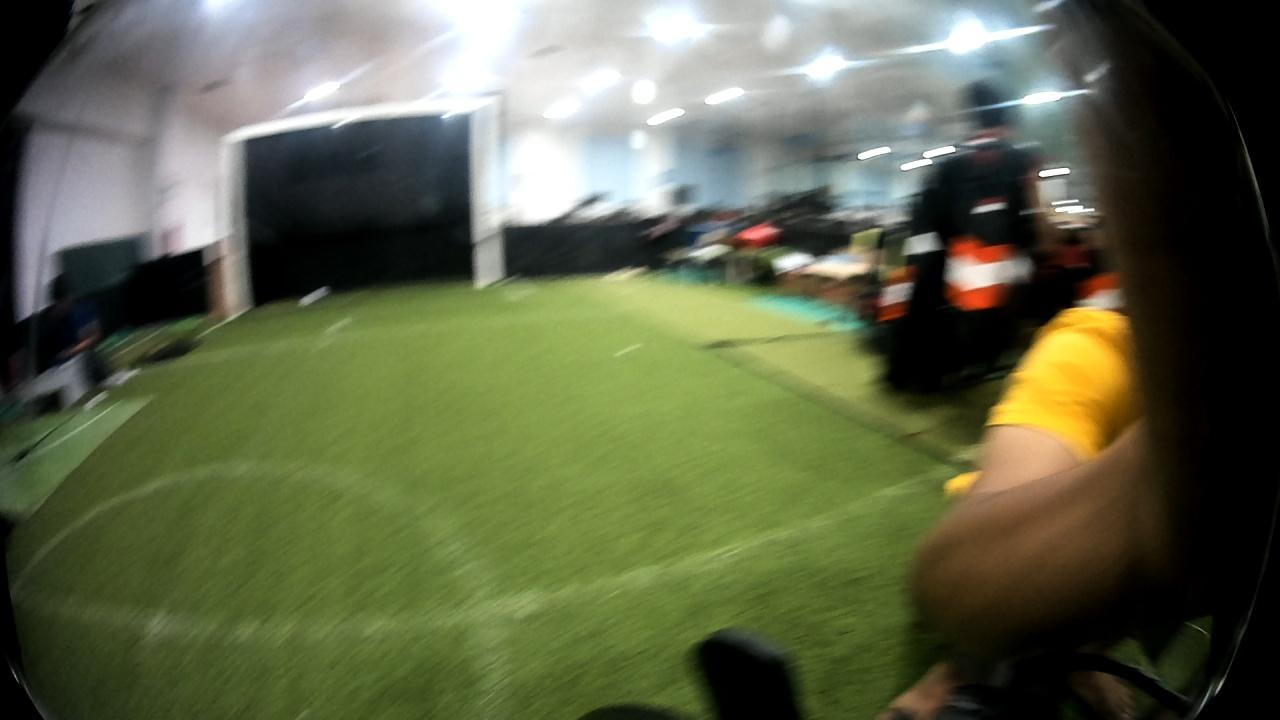ball: (294, 284, 330, 310)
